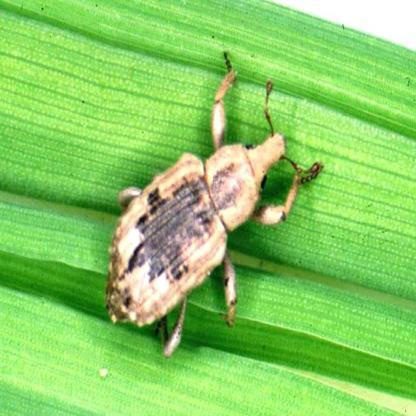rice-bug: (105, 92, 302, 356)
